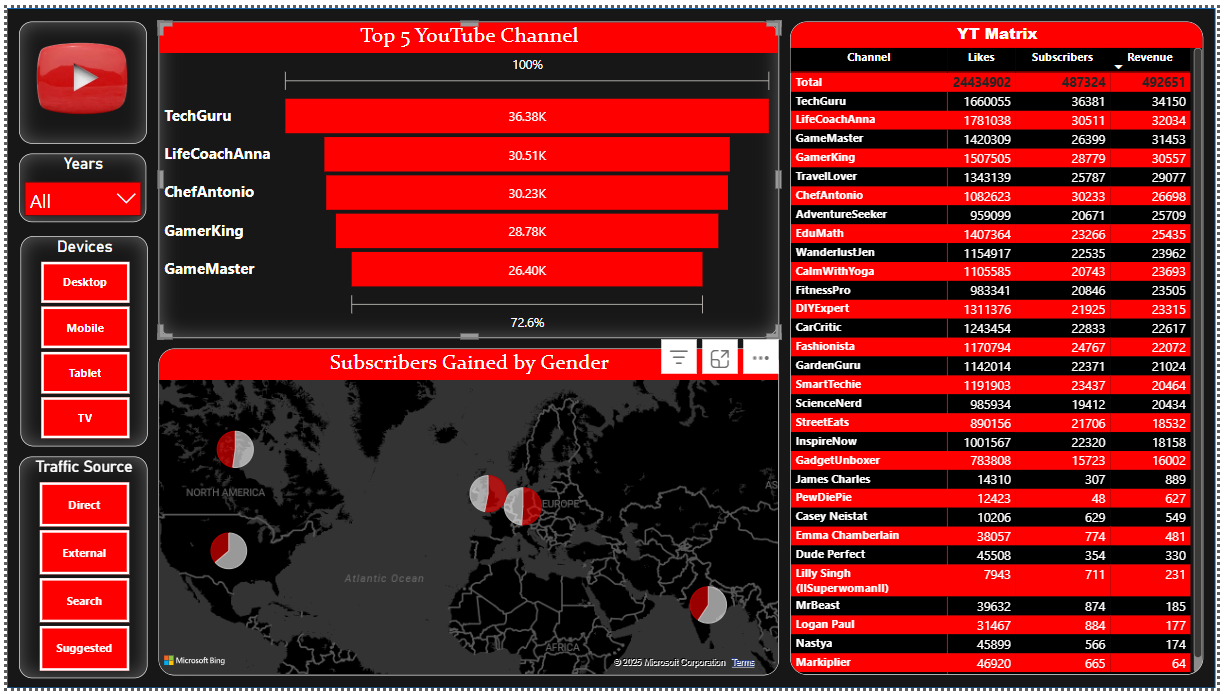

The page's visual inventory and layout, read from the dashboard file:
{"tool":"powerbi","page":{"name":"Channel & Subscriber Insights","canvas":[1280,720],"ordinal":2},"visuals":[{"type":"shape","box":[0,0,1279,720],"z":0},{"type":"funnel","title":"Top 5 YouTube Channel","fields":{"Category":["YouTube_Analytics_2023.YouTuber_Name"],"Y":["All Measures.Total Subscribers Gained"]},"box":[161.1,14.2,656.9,334.7],"z":1000},{"type":"map","title":"Subscribers Gained by Gender ","fields":{"Category":["YouTube_Analytics_2023.Audience_Country"],"Series":["YouTube_Analytics_2023.Gender"],"Size":["All Measures.Total Subscribers Gained"]},"box":[161.1,360,656.9,345.8],"z":2000},{"type":"pivotTable","title":"YT Matrix","fields":{"Rows":["YouTube_Analytics_2023.YouTuber_Name"],"Values":["YouTube_Analytics_2023.Likes","All Measures.Total Subscribers Gained","All Measures.Total Revenue"]},"box":[829,14.2,437.4,691.6],"z":3000},{"type":"slicer","title":"Years","fields":{"Values":["YouTube_Analytics_2023.Published_Date.Variation.Date Hierarchy.Year"]},"box":[12.1,154.4,134.8,72.7],"z":4000},{"type":"slicer","title":"Devices","fields":{"Values":["YouTube_Analytics_2023.Device_Type"]},"box":[13.6,240.8,134.8,222.6],"z":5000},{"type":"slicer","title":"Traffic Source","fields":{"Values":["YouTube_Analytics_2023.Traffic_Source"]},"box":[12.1,473.9,136.3,234.7],"z":6000},{"type":"image","box":[12.1,13.6,135,129],"z":7000}]}

Visuals, with their boxes in screenshot pixels (x1, y1, x2, y2), scaled from the page's 1280x720 canvas onto the 1224x694 screenshot:
shape: {"left": 0, "top": 0, "right": 1223, "bottom": 693}
"Top 5 YouTube Channel" funnel: {"left": 154, "top": 14, "right": 782, "bottom": 336}
"Subscribers Gained by Gender " map: {"left": 154, "top": 347, "right": 782, "bottom": 680}
"YT Matrix" pivotTable: {"left": 793, "top": 14, "right": 1211, "bottom": 680}
"Years" slicer: {"left": 12, "top": 149, "right": 140, "bottom": 219}
"Devices" slicer: {"left": 13, "top": 232, "right": 142, "bottom": 447}
"Traffic Source" slicer: {"left": 12, "top": 457, "right": 142, "bottom": 683}
image: {"left": 12, "top": 13, "right": 141, "bottom": 137}
